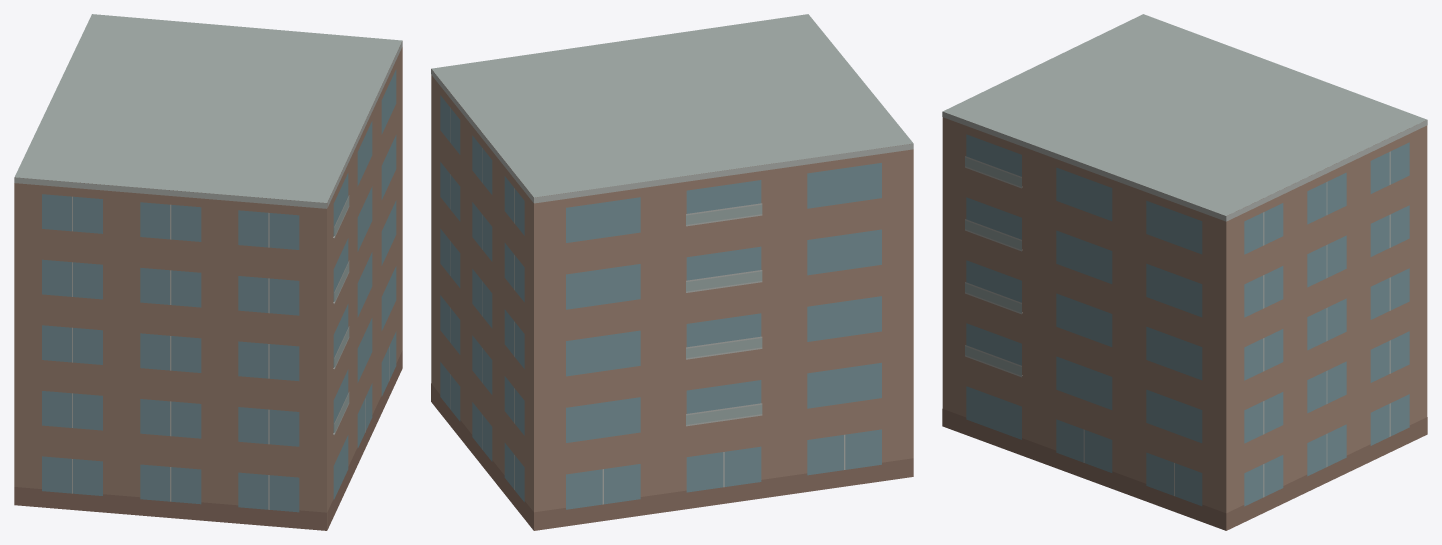
Rendered from survey-upis-33018254.glb.
The picture shows the model from 3 angles, left to right: view 1: azimuth 30°, elevation 25°; view 2: azimuth 150°, elevation 25°; view 3: azimuth 270°, elevation 25°; orthographic projection. The views are drawn at different scales.
Visible parts, largest first — view 1: survey-upis-33018254.tmp; view 2: survey-upis-33018254.tmp; view 3: survey-upis-33018254.tmp.
Boxes of the visible parts, left/top/right/bottom form: survey-upis-33018254.tmp: left=14, top=14, right=402, bottom=530; survey-upis-33018254.tmp: left=431, top=14, right=913, bottom=530; survey-upis-33018254.tmp: left=942, top=14, right=1427, bottom=530.
Bounding box in the file's own units: 19.01 × 13.8 × 19.27.
